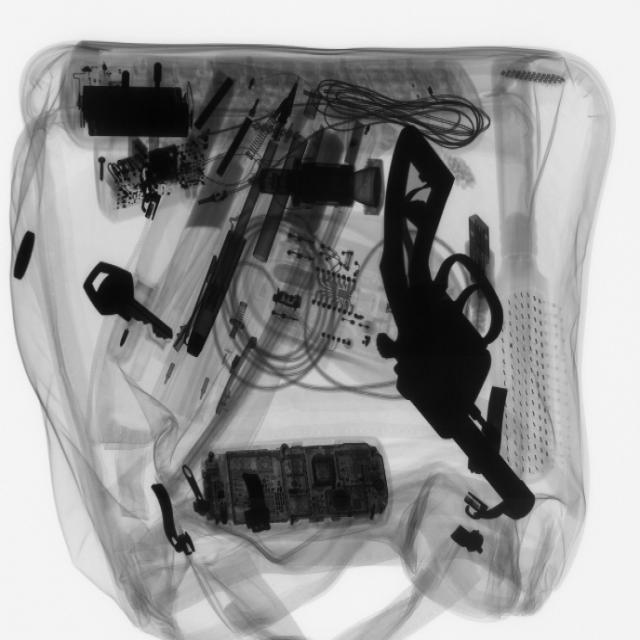GUN: (375, 126, 522, 521)
